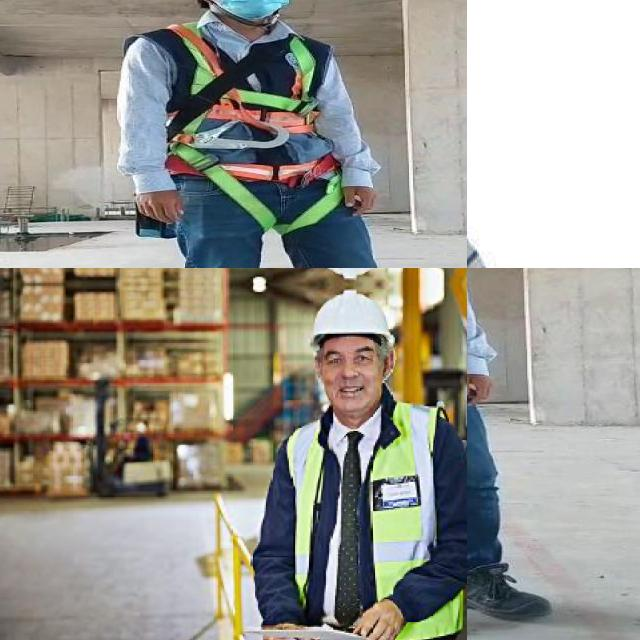No_Ear-Protection: (382, 348, 396, 383), (314, 350, 322, 377)
No_Glasses: (322, 345, 379, 369)
face_mask: (212, 0, 291, 20)
face_nomask: (324, 368, 383, 412)
hand_noglove: (128, 183, 186, 231), (335, 168, 382, 224), (353, 599, 404, 640), (467, 350, 501, 409)
head_helmet: (311, 290, 390, 347)
person: (113, 0, 433, 268), (467, 268, 553, 637)
